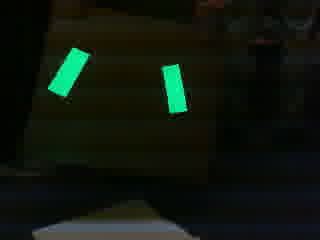target: (45, 47, 193, 115)
